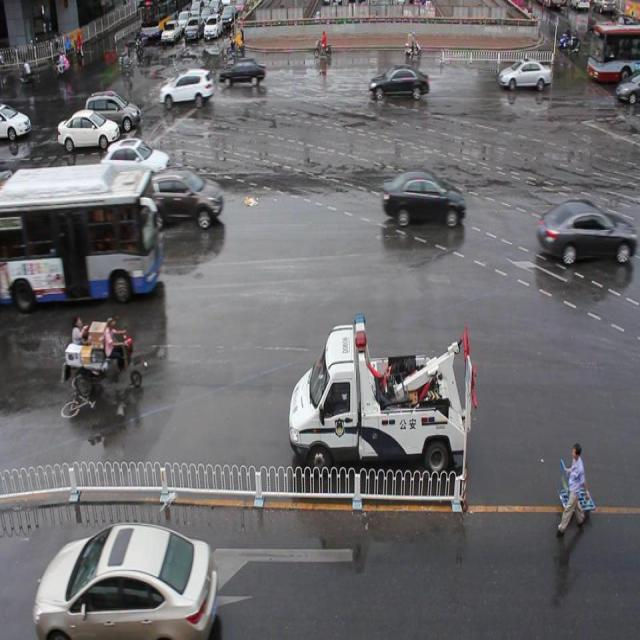car: (535, 200, 640, 267), (379, 167, 465, 229), (137, 167, 223, 228), (101, 136, 171, 190), (368, 65, 430, 107), (159, 68, 215, 110), (497, 56, 551, 95), (216, 54, 267, 91)
van: (1, 166, 162, 299)
